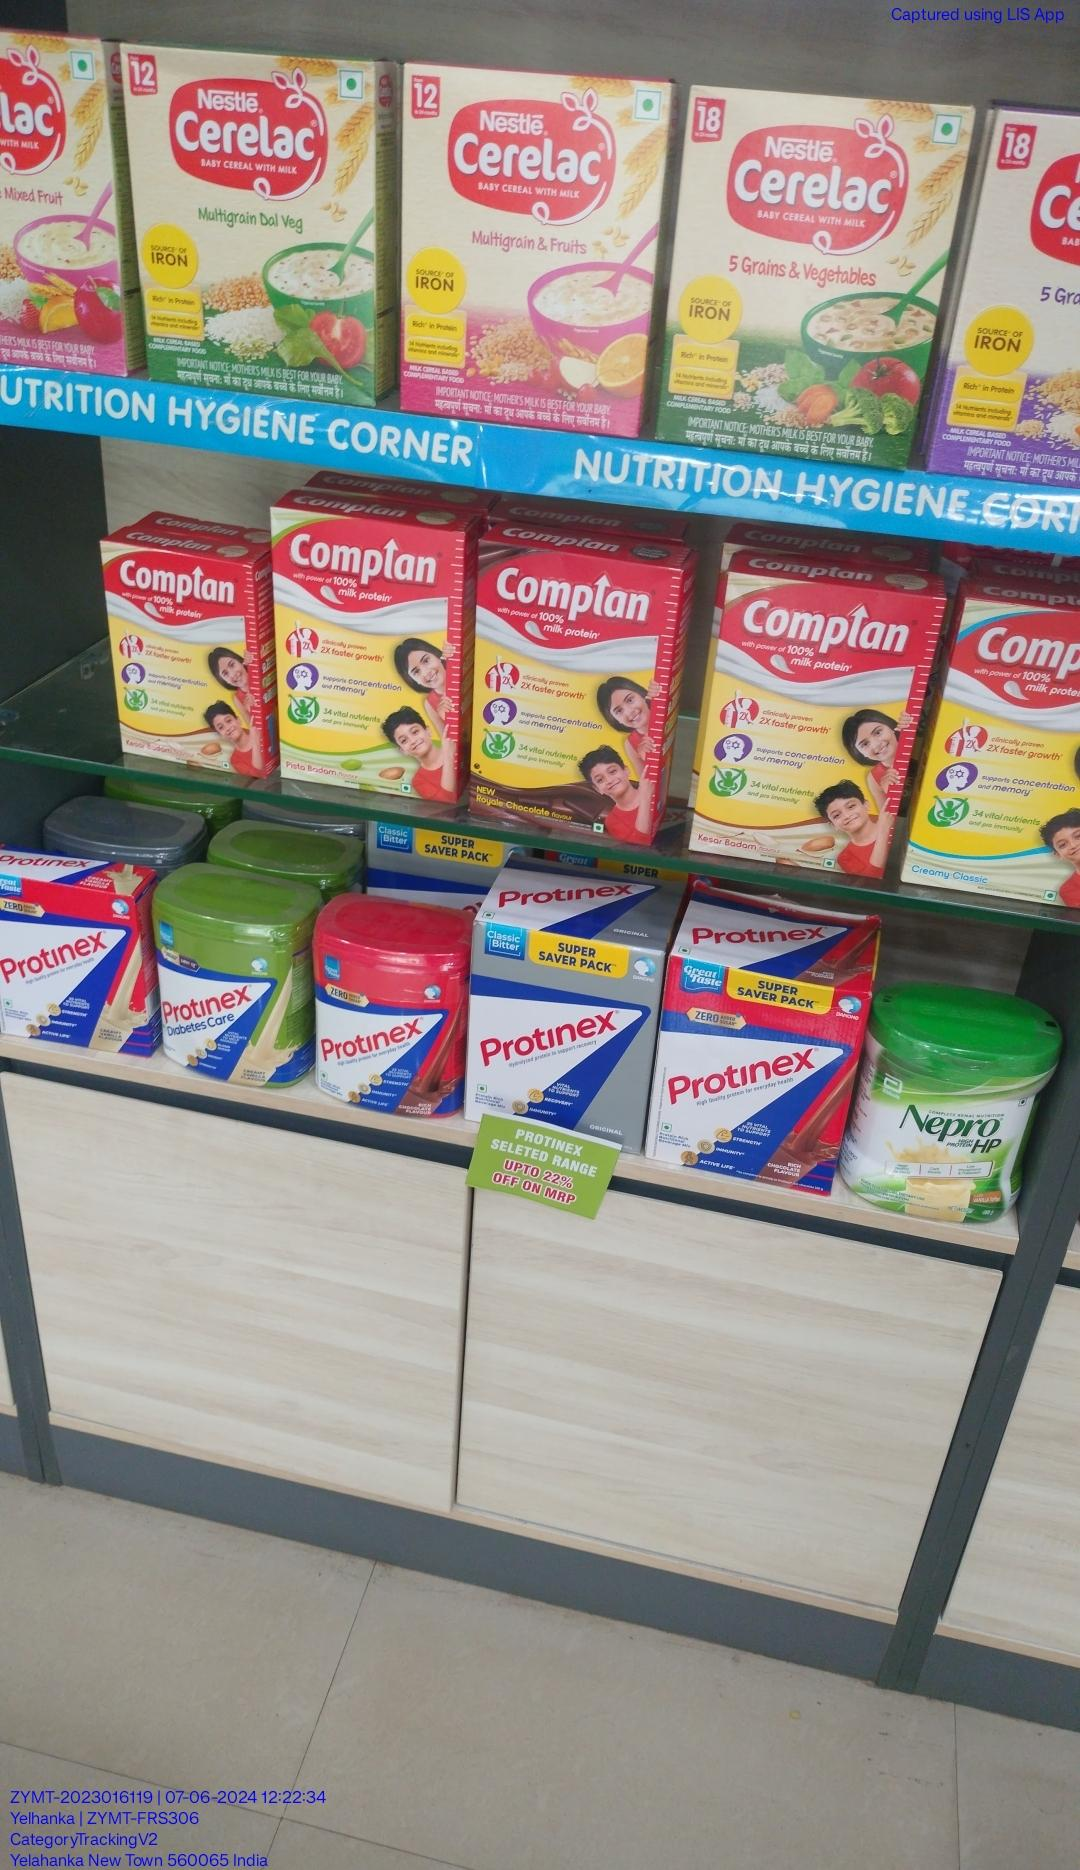PROTINEX_CHOCOLATE_400_G_JAR: (323, 952, 467, 1107)
